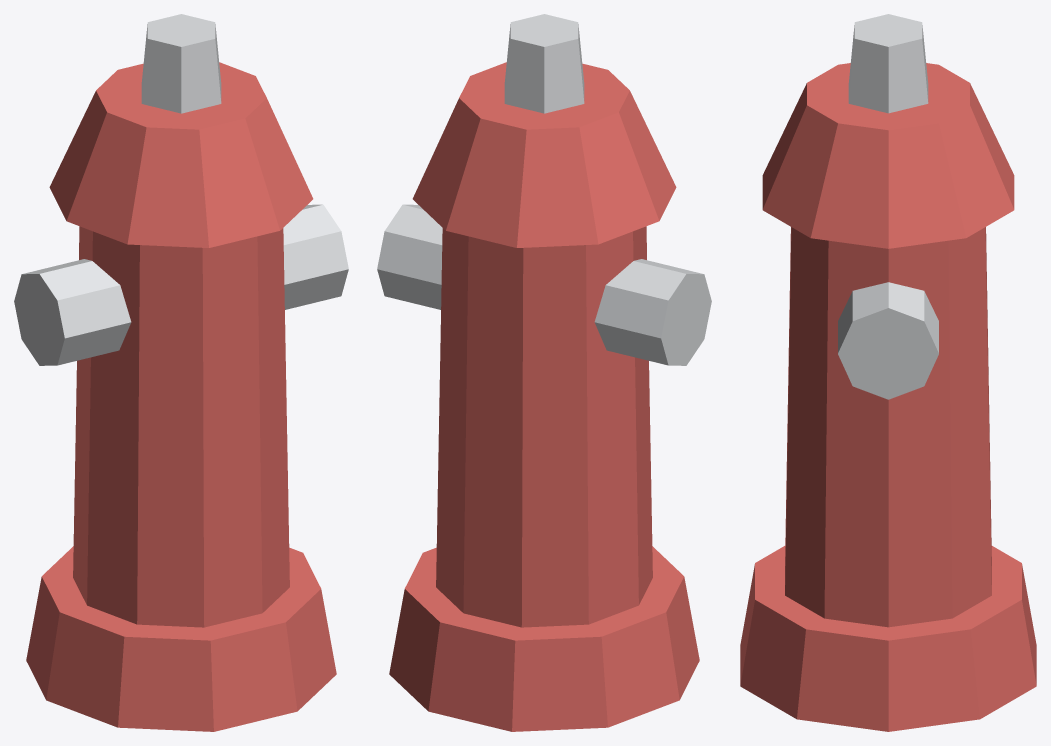
File: prop_hydrant.glb
3 views of the same model, side by side, from view 1: azimuth 30°, elevation 25°; view 2: azimuth 150°, elevation 25°; view 3: azimuth 270°, elevation 25° (orthographic).
Visible parts, largest first — view 1: prop_hydrant; view 2: prop_hydrant; view 3: prop_hydrant.
Part boxes in pixels (x1=…): prop_hydrant: x1=14, y1=14, x2=348, y2=731; prop_hydrant: x1=377, y1=14, x2=711, y2=731; prop_hydrant: x1=740, y1=14, x2=1036, y2=731.
Size of the model in its own units: 0.42 by 0.9 by 0.3804.
